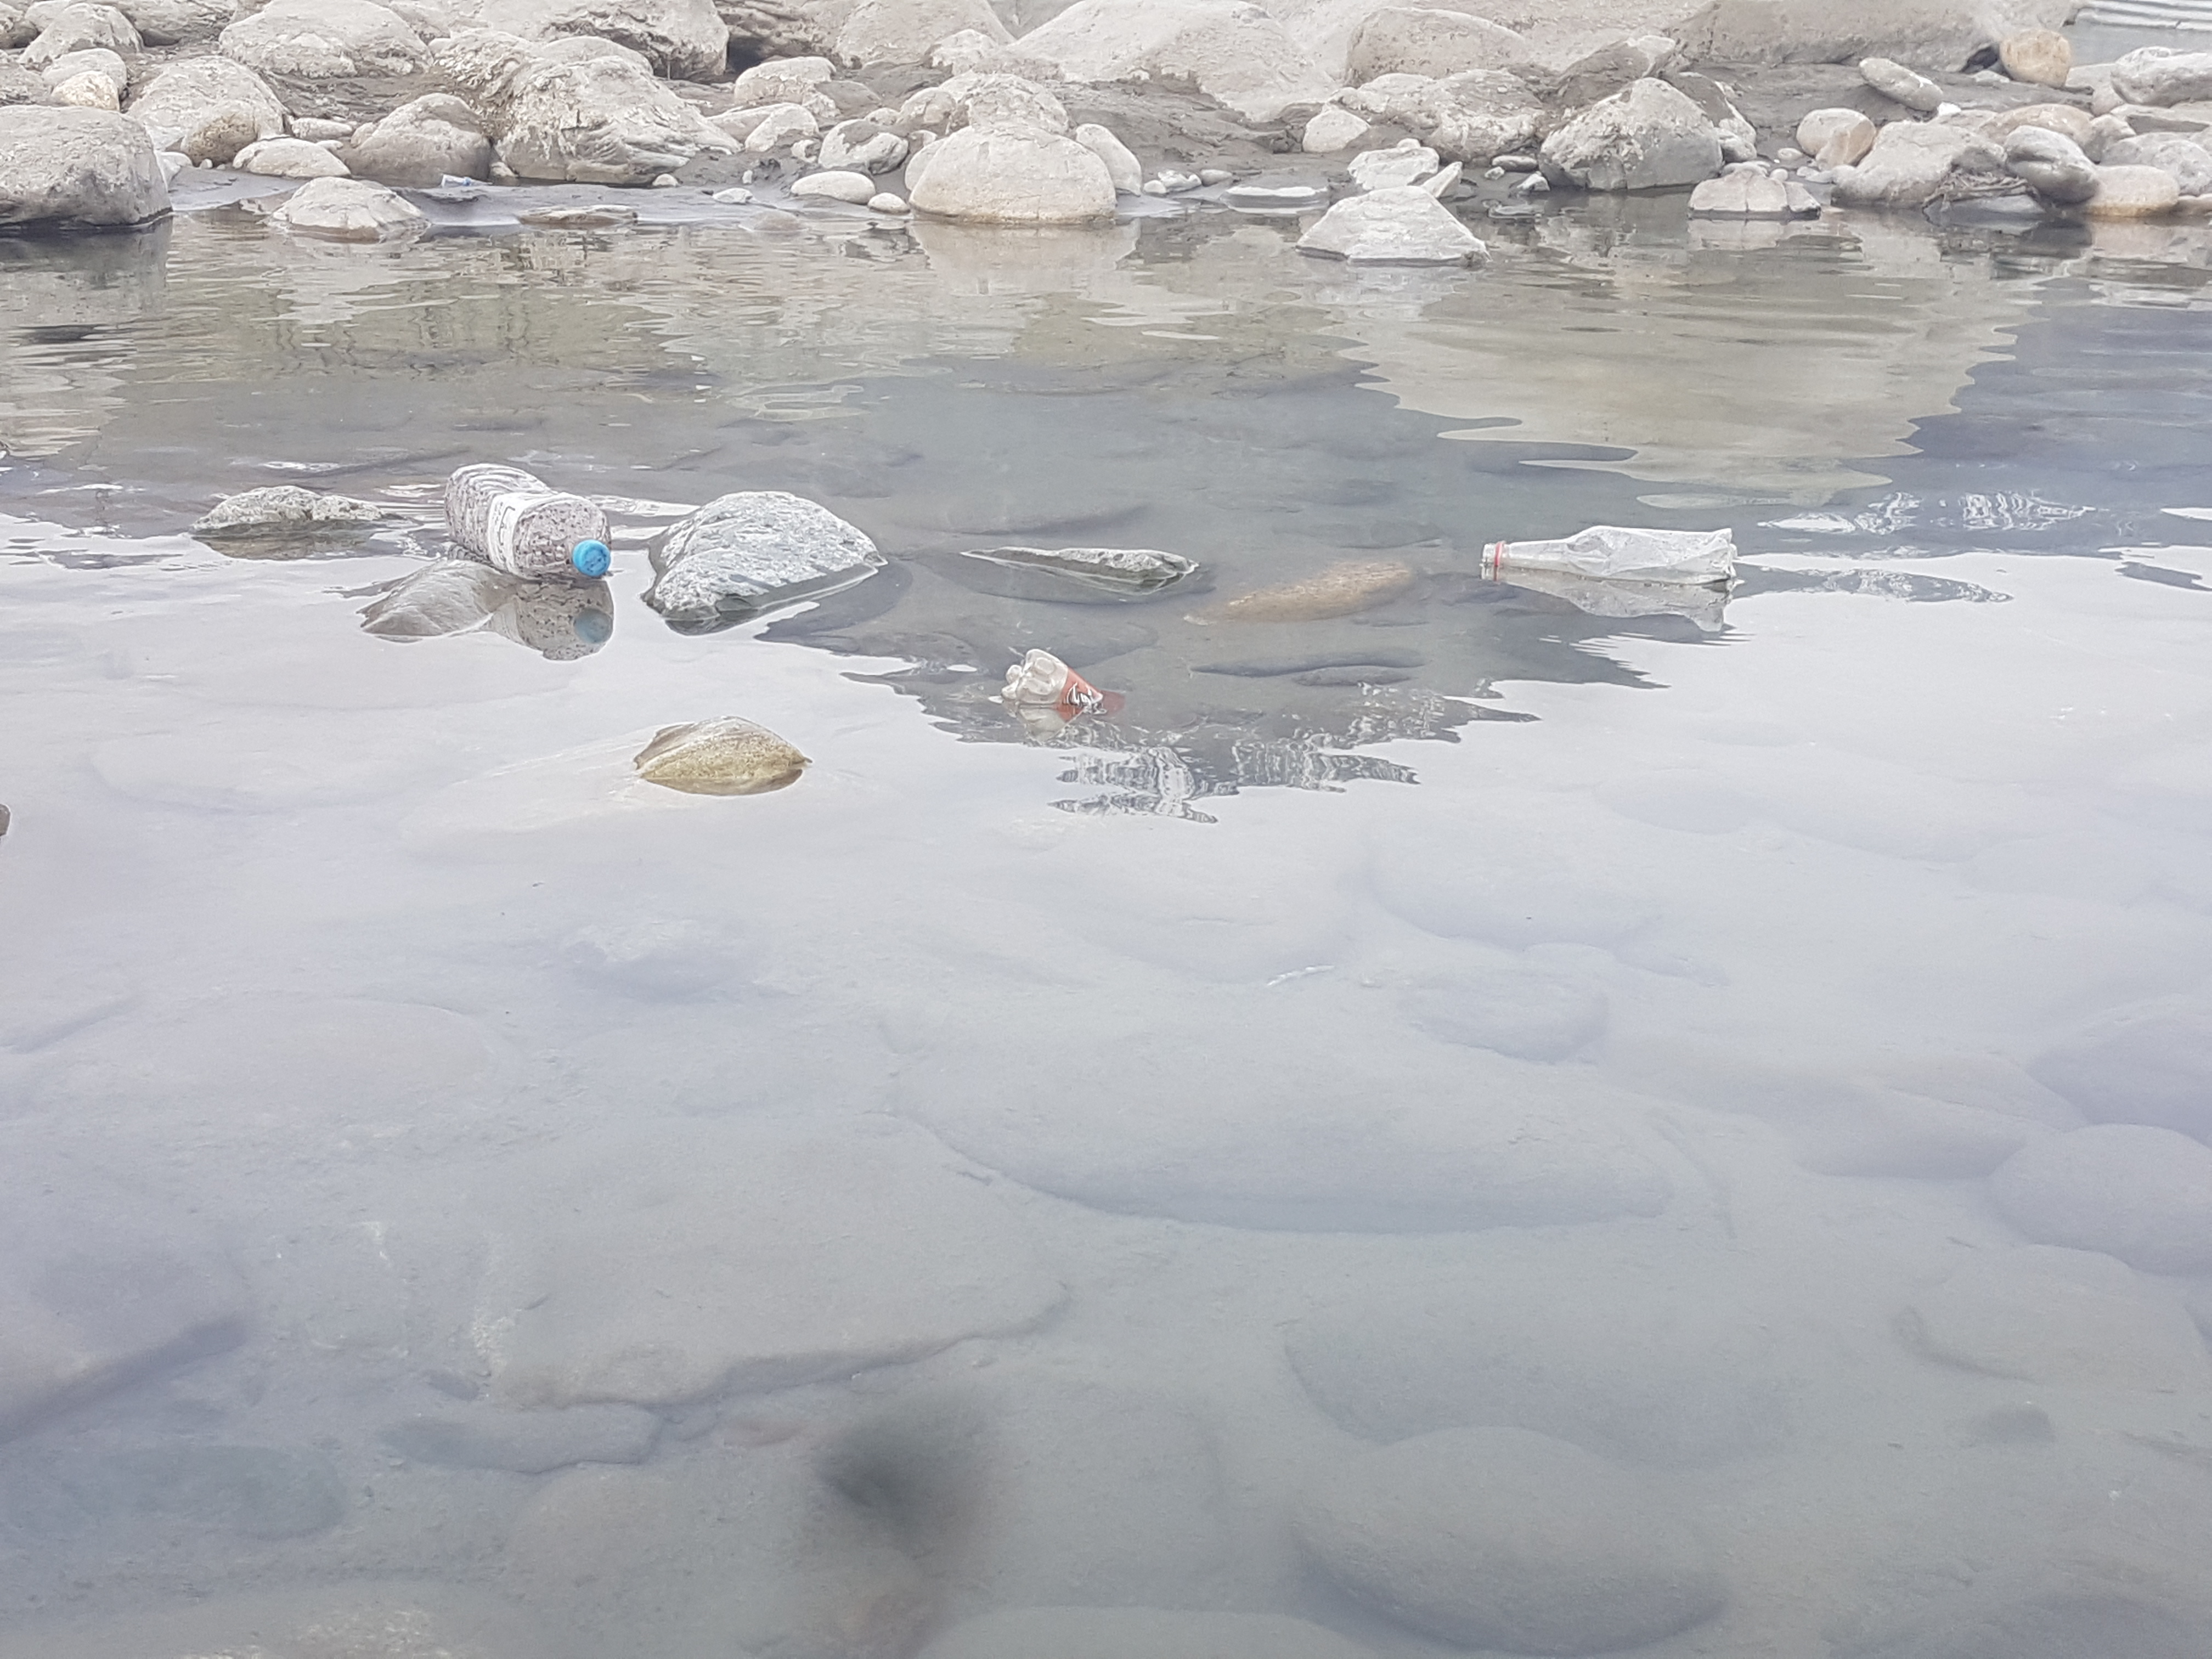Plastic Bottle: (444, 462, 613, 580), (1480, 525, 1737, 582), (1001, 648, 1103, 706), (442, 174, 491, 186)
